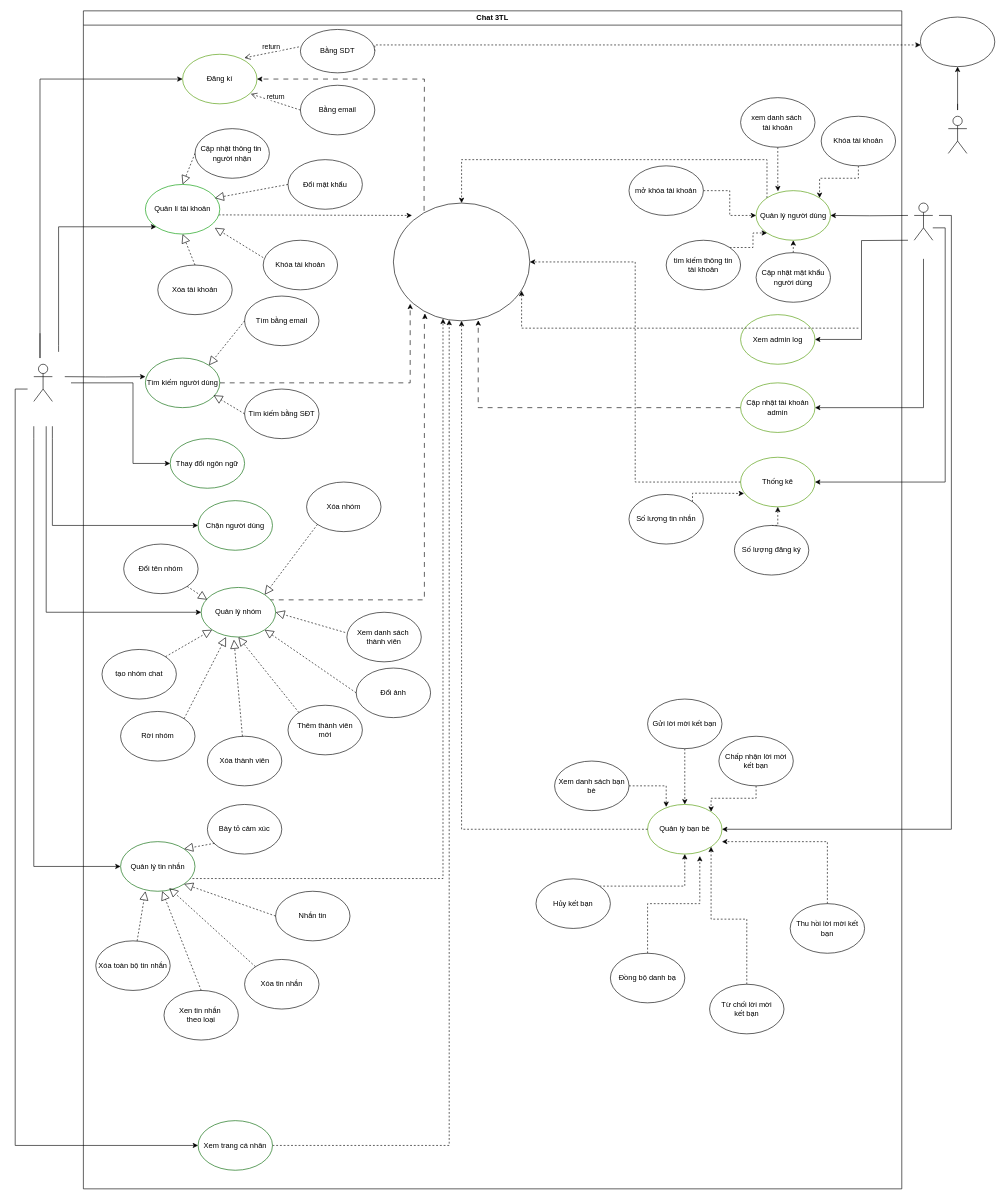
The diagram is 1006 pixels wide and 1200 high, and some of its shapes have lost their labels. The box of each missing label's shape, as (x1, y1, x2, y2) in pixels:
Actor: (33, 364, 52, 401)
Admin: (914, 202, 933, 240)
firebase: (948, 116, 967, 153)
xác thực otp: (920, 16, 995, 67)
Đăng nhập: (393, 202, 530, 321)
